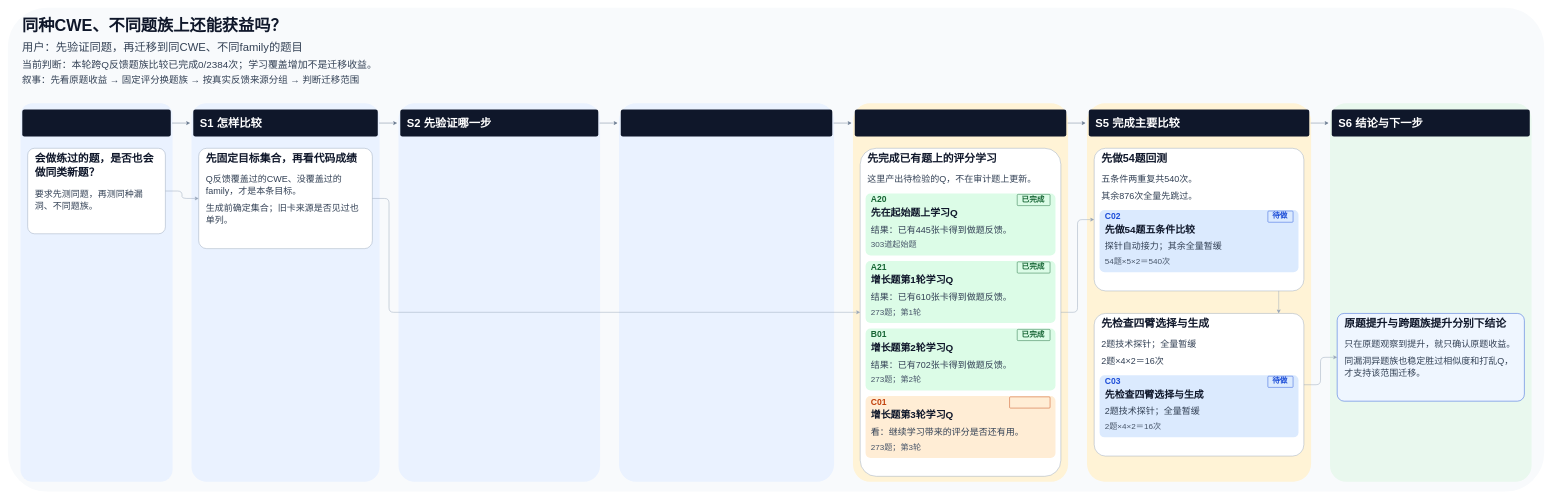
Some shapes in this 1552 by 499 pixel diagram are drawn without their labels. The centre of each missing label's shape, as x and y in pixels:
S0 为什么做: pixel 96 122
S3 小实验与发现: pixel 726 122
S4 继续学习或建方法: pixel 960 122
正在运行: pixel 1029 402
